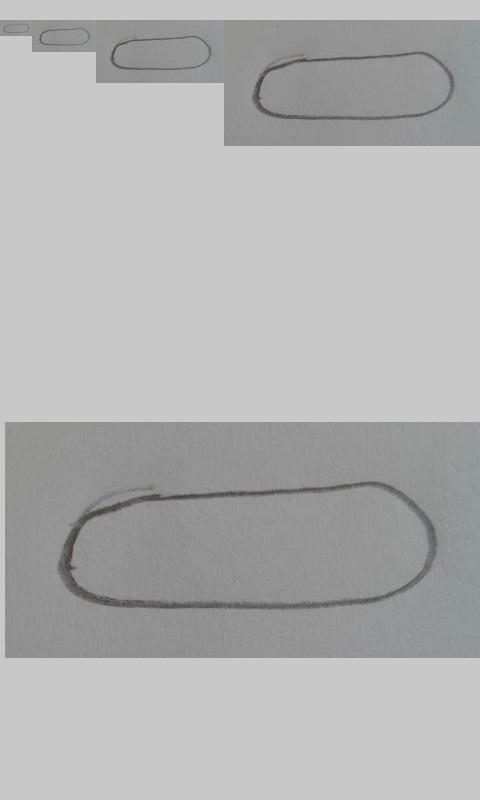chip: (57, 481, 438, 612), (253, 50, 457, 121), (110, 35, 212, 70), (38, 27, 90, 46), (3, 23, 31, 34)
